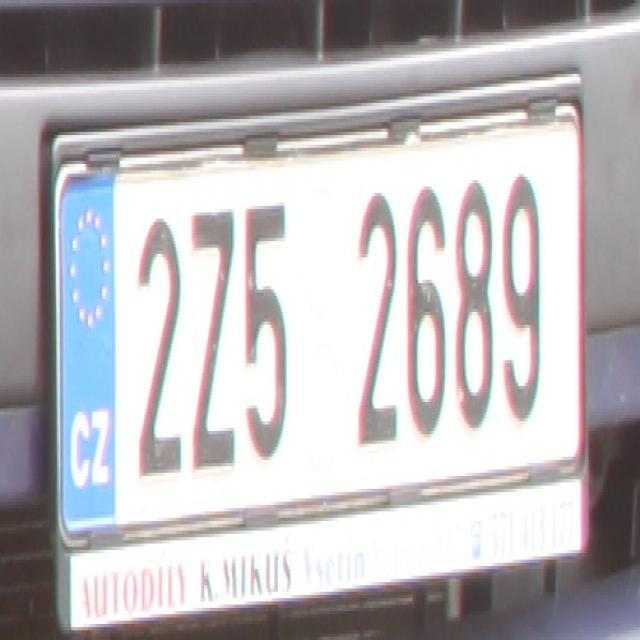2: (132, 209, 182, 473), (353, 187, 399, 450)
5: (242, 196, 290, 457)
6: (404, 183, 448, 447)
8: (452, 176, 494, 434)
9: (500, 164, 540, 425)
Z: (186, 206, 235, 473)
